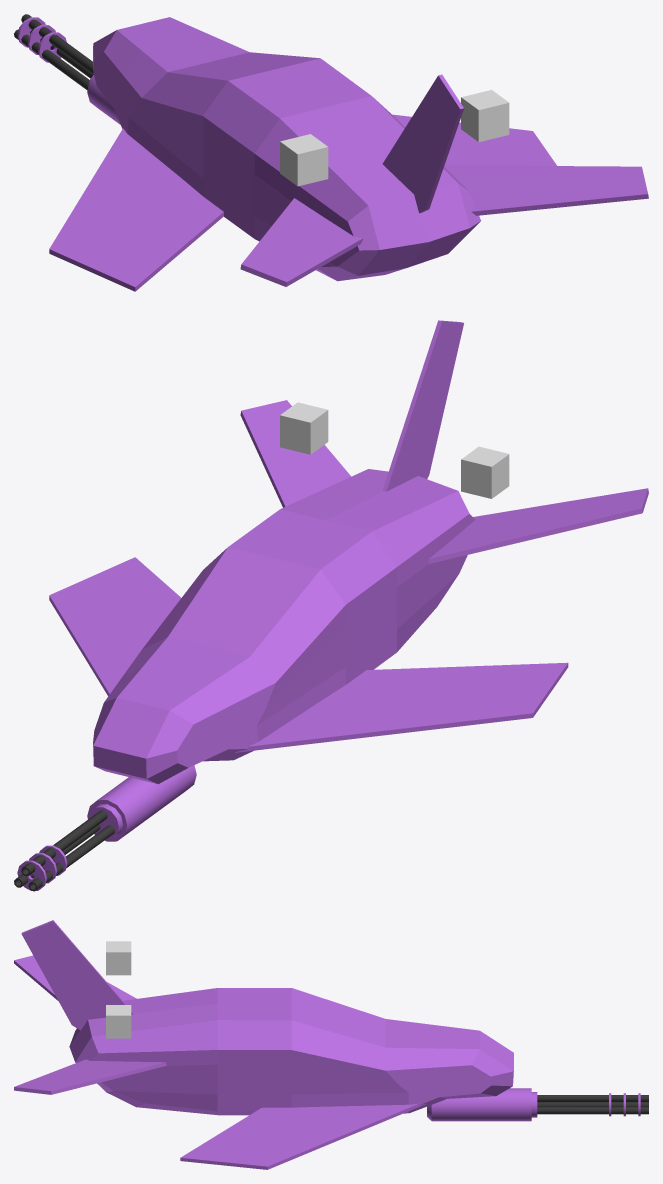
The model's file is Figher Gatling.glb.
3 views of the same model, one above another, from view 1: azimuth 30°, elevation 25°; view 2: azimuth 150°, elevation 25°; view 3: azimuth 270°, elevation 25° (orthographic). The views are drawn at different scales.
Parts seen in each view (by area): view 1: Origin Figher Gatling Frame, Figher G Wing, Figher G Tail H, Figher G Tail V, Gatling Fighter Engine L, Gatling Fighter Engine R, Figher Gatling Barrel, Figher Gatling Motor, Figher Gatling Head; view 2: Origin Figher Gatling Frame, Figher G Wing, Figher G Tail H, Figher G Tail V, Figher Gatling Head, Figher Gatling Barrel, Gatling Fighter Engine R, Gatling Fighter Engine L, Figher Gatling Motor; view 3: Origin Figher Gatling Frame, Figher G Wing, Figher G Tail V, Figher G Tail H, Figher Gatling Head, Figher Gatling Barrel, Gatling Fighter Engine L, Gatling Fighter Engine R, Figher Gatling Motor.
Part boxes in pixels (x1=…): Origin Figher Gatling Frame: x1=93, y1=17, x2=480, y2=281; Figher G Wing: x1=49, y1=114, x2=556, y2=291; Figher G Tail H: x1=240, y1=165, x2=648, y2=286; Figher G Tail V: x1=382, y1=74, x2=463, y2=213; Gatling Fighter Engine L: x1=280, y1=134, x2=328, y2=186; Gatling Fighter Engine R: x1=461, y1=90, x2=509, y2=142; Figher Gatling Barrel: x1=14, y1=14, x2=93, y2=90; Figher Gatling Motor: x1=17, y1=17, x2=93, y2=87; Figher Gatling Head: x1=87, y1=76, x2=120, y2=124; Origin Figher Gatling Frame: x1=93, y1=469, x2=475, y2=784; Figher G Wing: x1=49, y1=557, x2=568, y2=752; Figher G Tail H: x1=240, y1=400, x2=648, y2=563; Figher G Tail V: x1=382, y1=320, x2=463, y2=491; Figher Gatling Head: x1=87, y1=765, x2=196, y2=841; Figher Gatling Barrel: x1=14, y1=810, x2=114, y2=891; Gatling Fighter Engine R: x1=280, y1=402, x2=328, y2=454; Gatling Fighter Engine L: x1=461, y1=446, x2=509, y2=498; Figher Gatling Motor: x1=17, y1=804, x2=122, y2=890; Origin Figher Gatling Frame: x1=69, y1=988, x2=513, y2=1115; Figher G Wing: x1=180, y1=1103, x2=425, y2=1169; Figher G Tail V: x1=21, y1=920, x2=133, y2=1030; Figher G Tail H: x1=14, y1=955, x2=166, y2=1094; Figher Gatling Head: x1=427, y1=1088, x2=531, y2=1121; Figher Gatling Barrel: x1=537, y1=1095, x2=648, y2=1114; Gatling Fighter Engine L: x1=106, y1=941, x2=131, y2=975; Gatling Fighter Engine R: x1=106, y1=1005, x2=131, y2=1038; Figher Gatling Motor: x1=531, y1=1092, x2=640, y2=1117.
Bounding box in the file's own units: 11.75 × 6.43 × 18.6.
